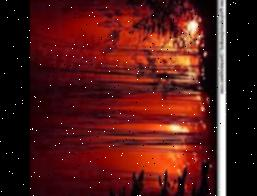fire: (109, 0, 210, 172)
